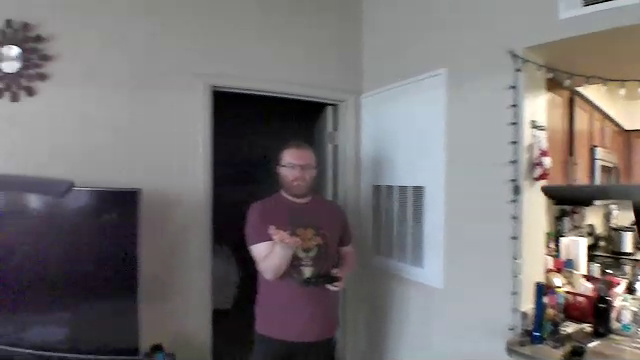land: (265, 223, 305, 250)
